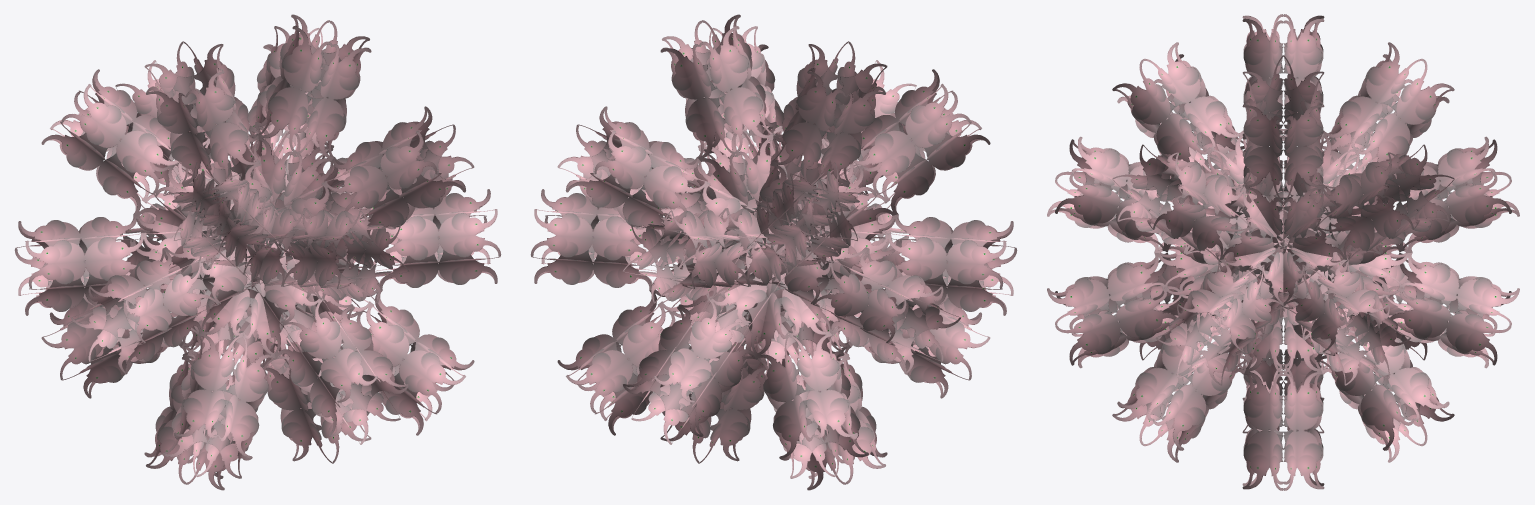
File: StarGreatDodecahemicosacron21.gltf
3 views of the same model, side by side, from view 1: azimuth 30°, elevation 25°; view 2: azimuth 150°, elevation 25°; view 3: azimuth 270°, elevation 25° (orthographic).
Visible parts, largest first — view 1: StarGreatDodecahemicosacron; view 2: StarGreatDodecahemicosacron; view 3: StarGreatDodecahemicosacron.
Boxes of the visible parts, box(x1,y1,x2,y2) form: StarGreatDodecahemicosacron: box(14, 14, 501, 490); StarGreatDodecahemicosacron: box(530, 14, 1017, 490); StarGreatDodecahemicosacron: box(1047, 14, 1519, 490).
Size of the model in its own units: 10.06 by 10.06 by 10.06.
Materials: 1 (1 with a texture image).
